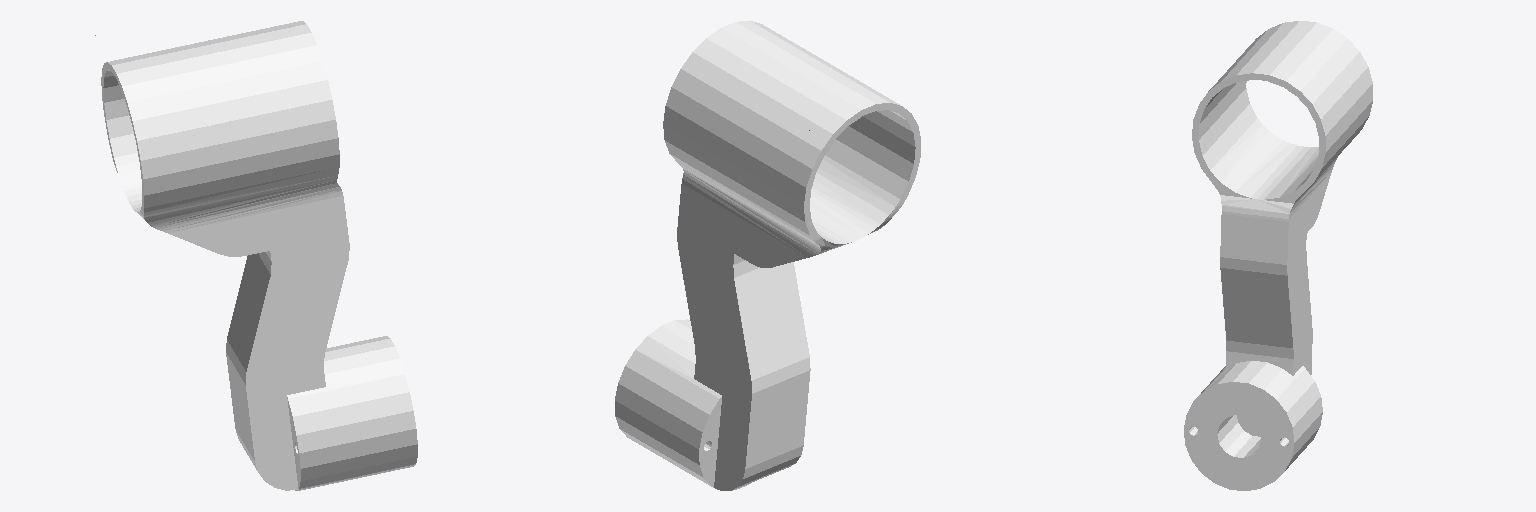
The robot description file, URDF, robot "URDF_Files(ver2)":
<?xml version="1.0" encoding="utf-8"?>
<!-- This URDF was automatically created by SolidWorks to URDF Exporter! Originally created by Stephen Brawner (brawner@gmail.com) 
     Commit Version: 1.6.0-4-g7f85cfe  Build Version: 1.6.7995.38578
     For more information, please see http://wiki.ros.org/sw_urdf_exporter -->
<robot
  name="URDF_Files(ver2)">
  <link
    name="Base_Link">
    <inertial>
      <origin
        xyz="0.019136 0.081654 0.13016"
        rpy="0 0 0" />
      <mass
        value="5.0444" />
      <inertia
        ixx="0.092279"
        ixy="-0.0093377"
        ixz="0.0013703"
        iyy="0.056356"
        iyz="0.0056236"
        izz="0.10199" />
    </inertial>
    <visual>
      <origin
        xyz="0 0 0"
        rpy="0 0 0" />
      <geometry>
        <mesh
          filename="package://URDF_Files(ver2)/meshes/Base_Link.STL" />
      </geometry>
      <material
        name="">
        <color
          rgba="0.79216 0.81961 0.93333 1" />
      </material>
    </visual>
    <collision>
      <origin
        xyz="0 0 0"
        rpy="0 0 0" />
      <geometry>
        <mesh
          filename="package://URDF_Files(ver2)/meshes/Base_Link.STL" />
      </geometry>
    </collision>
  </link>
  <link
    name="Link_1">
    <inertial>
      <origin
        xyz="-0.0803624043240096 -0.0218633700222532 0.0975176290696128"
        rpy="0 0 0" />
      <mass
        value="3.05030117266873" />
      <inertia
        ixx="0.00908366276327795"
        ixy="-0.000832179727045252"
        ixz="0.00212163603395958"
        iyy="0.0112945925830552"
        iyz="-0.000119903256760855"
        izz="0.0139630280609634" />
    </inertial>
    <visual>
      <origin
        xyz="0 0 0"
        rpy="0 0 0" />
      <geometry>
        <mesh
          filename="package://URDF_Files(ver2)/meshes/Link_1.STL" />
      </geometry>
      <material
        name="">
        <color
          rgba="0.792156862745098 0.819607843137255 0.933333333333333 1" />
      </material>
    </visual>
    <collision>
      <origin
        xyz="0 0 0"
        rpy="0 0 0" />
      <geometry>
        <mesh
          filename="package://URDF_Files(ver2)/meshes/Link_1.STL" />
      </geometry>
    </collision>
  </link>
  <joint
    name="Joint_1"
    type="revolute">
    <origin
      xyz="-0.004459 -0.015654 0.23679"
      rpy="0 0 0" />
    <parent
      link="Base_Link" />
    <child
      link="Link_1" />
    <axis
      xyz="0 0 1" />
    <limit
      lower="0"
      upper="0"
      effort="0"
      velocity="0" />
  </joint>
  <link
    name="Link_2">
    <inertial>
      <origin
        xyz="0.00760395907567529 -0.272616320539498 0.00545975802757604"
        rpy="0 0 0" />
      <mass
        value="2.15823907097436" />
      <inertia
        ixx="0.0320135171840108"
        ixy="-2.62290449763533E-05"
        ixz="-0.000152684733248509"
        iyy="0.00612376830831215"
        iyz="-0.00292745594403726"
        izz="0.0328064740864057" />
    </inertial>
    <visual>
      <origin
        xyz="0 0 0"
        rpy="0 0 0" />
      <geometry>
        <mesh
          filename="package://URDF_Files(ver2)/meshes/Link_2.STL" />
      </geometry>
      <material
        name="">
        <color
          rgba="0.792156862745098 0.819607843137255 0.933333333333333 1" />
      </material>
    </visual>
    <collision>
      <origin
        xyz="0 0 0"
        rpy="0 0 0" />
      <geometry>
        <mesh
          filename="package://URDF_Files(ver2)/meshes/Link_2.STL" />
      </geometry>
    </collision>
  </link>
  <joint
    name="Joint_2"
    type="revolute">
    <origin
      xyz="-0.098637 0.067116 0.13069"
      rpy="-1.5708 0 -0.2775" />
    <parent
      link="Link_1" />
    <child
      link="Link_2" />
    <axis
      xyz="0 0 -1" />
    <limit
      lower="0"
      upper="0"
      effort="0"
      velocity="0" />
  </joint>
  <link
    name="Link_3">
    <inertial>
      <origin
        xyz="-0.16778 -0.044173 0.023654"
        rpy="0 0 0" />
      <mass
        value="1.1249" />
      <inertia
        ixx="0.0020712"
        ixy="-0.0017231"
        ixz="-0.00035483"
        iyy="0.0082839"
        iyz="-0.00012235"
        izz="0.0098461" />
    </inertial>
    <visual>
      <origin
        xyz="0 0 0"
        rpy="0 0 0" />
      <geometry>
        <mesh
          filename="package://URDF_Files(ver2)/meshes/Link_3.STL" />
      </geometry>
      <material
        name="">
        <color
          rgba="0.79216 0.81961 0.93333 1" />
      </material>
    </visual>
    <collision>
      <origin
        xyz="0 0 0"
        rpy="0 0 0" />
      <geometry>
        <mesh
          filename="package://URDF_Files(ver2)/meshes/Link_3.STL" />
      </geometry>
    </collision>
  </link>
  <joint
    name="Joint_3"
    type="revolute">
    <origin
      xyz="0.0017922 -0.425 0.032"
      rpy="0 0 0" />
    <parent
      link="Link_2" />
    <child
      link="Link_3" />
    <axis
      xyz="0 0 -1" />
    <limit
      lower="0"
      upper="0"
      effort="0"
      velocity="0" />
  </joint>
  <link
    name="Wrist_1">
    <inertial>
      <origin
        xyz="-0.025909 0.0084849 -0.088226"
        rpy="0 0 0" />
      <mass
        value="0.25214" />
      <inertia
        ixx="0.00013594"
        ixy="-1.203E-07"
        ixz="1.919E-05"
        iyy="0.00017148"
        iyz="1.9144E-06"
        izz="0.00011709" />
    </inertial>
    <visual>
      <origin
        xyz="0 0 0"
        rpy="0 0 0" />
      <geometry>
        <mesh
          filename="package://URDF_Files(ver2)/meshes/Wrist_1.STL" />
      </geometry>
      <material
        name="">
        <color
          rgba="0.79216 0.81961 0.93333 1" />
      </material>
    </visual>
    <collision>
      <origin
        xyz="0 0 0"
        rpy="0 0 0" />
      <geometry>
        <mesh
          filename="package://URDF_Files(ver2)/meshes/Wrist_1.STL" />
      </geometry>
    </collision>
  </link>
  <joint
    name="Joint_4"
    type="revolute">
    <origin
      xyz="-0.32369 -0.079886 -0.031276"
      rpy="-3.0255 -1.5708 -0.22921" />
    <parent
      link="Link_3" />
    <child
      link="Wrist_1" />
    <axis
      xyz="0 0 -1" />
    <limit
      lower="0"
      upper="0"
      effort="0"
      velocity="0" />
  </joint>
  <link
    name="Wrist_2">
    <inertial>
      <origin
        xyz="0.042185 0.0078859 -0.1045"
        rpy="0 0 0" />
      <mass
        value="0.25214" />
      <inertia
        ixx="0.00013594"
        ixy="-1.2033E-07"
        ixz="-1.919E-05"
        iyy="0.00017148"
        iyz="-1.9144E-06"
        izz="0.00011709" />
    </inertial>
    <visual>
      <origin
        xyz="0 0 0"
        rpy="0 0 0" />
      <geometry>
        <mesh
          filename="package://URDF_Files(ver2)/meshes/Wrist_2.STL" />
      </geometry>
      <material
        name="">
        <color
          rgba="0.79216 0.81961 0.93333 1" />
      </material>
    </visual>
    <collision>
      <origin
        xyz="0 0 0"
        rpy="0 0 0" />
      <geometry>
        <mesh
          filename="package://URDF_Files(ver2)/meshes/Wrist_2.STL" />
      </geometry>
    </collision>
  </link>
  <joint
    name="Joint_5"
    type="revolute">
    <origin
      xyz="0.033 0 -0.1005"
      rpy="3.1416 -1.5708 0" />
    <parent
      link="Wrist_1" />
    <child
      link="Wrist_2" />
    <axis
      xyz="0 0 -1" />
    <limit
      lower="0"
      upper="0"
      effort="0"
      velocity="0" />
  </joint>
  <link
    name="End_Effector">
    <inertial>
      <origin
        xyz="-0.13137 -0.40144 0.4218"
        rpy="0 0 0" />
      <mass
        value="0.183" />
      <inertia
        ixx="30.328"
        ixy="1.7055"
        ixz="0.36929"
        iyy="6.2836"
        iyz="7.4836"
        izz="28" />
    </inertial>
    <visual>
      <origin
        xyz="0 0 0"
        rpy="0 0 0" />
      <geometry>
        <mesh
          filename="package://URDF_Files(ver2)/meshes/End_Effector.STL" />
      </geometry>
      <material
        name="">
        <color
          rgba="1 1 1 1" />
      </material>
    </visual>
    <collision>
      <origin
        xyz="0 0 0"
        rpy="0 0 0" />
      <geometry>
        <mesh
          filename="package://URDF_Files(ver2)/meshes/End_Effector.STL" />
      </geometry>
    </collision>
  </link>
  <joint
    name="Joint_6"
    type="revolute">
    <origin
      xyz="-0.033 0 -0.1005"
      rpy="0 1.5708 0" />
    <parent
      link="Wrist_2" />
    <child
      link="End_Effector" />
    <axis
      xyz="0 0 -1" />
    <limit
      lower="0"
      upper="0"
      effort="0"
      velocity="0" />
  </joint>
</robot>

--- What the picture shows (computed from the rendered views, not written in the file) ---
Views: 3 orthographic renders of the robot side by side, from view 1: azimuth 30°, elevation 25°; view 2: azimuth 150°, elevation 25°; view 3: azimuth 270°, elevation 25°.
Robot: URDF_Files(ver2) — 7 links, 6 joints (6 revolute); root link Base_Link; default pose: every joint at zero.
Links seen in each view (by area): view 1: End_Effector; view 2: End_Effector; view 3: End_Effector.
Boxes of the visible links, x1=… form: End_Effector: x1=101, y1=21, x2=417, y2=490; End_Effector: x1=615, y1=20, x2=920, y2=490; End_Effector: x1=1184, y1=21, x2=1372, y2=490.
Size in the robot's own frame: 78.53 by 55.16 by 124 metres.
5 mesh visuals loaded from 7 distinct referenced files (5 binary STL); not drawn: 2 (reference not matched to a file when rendering).
